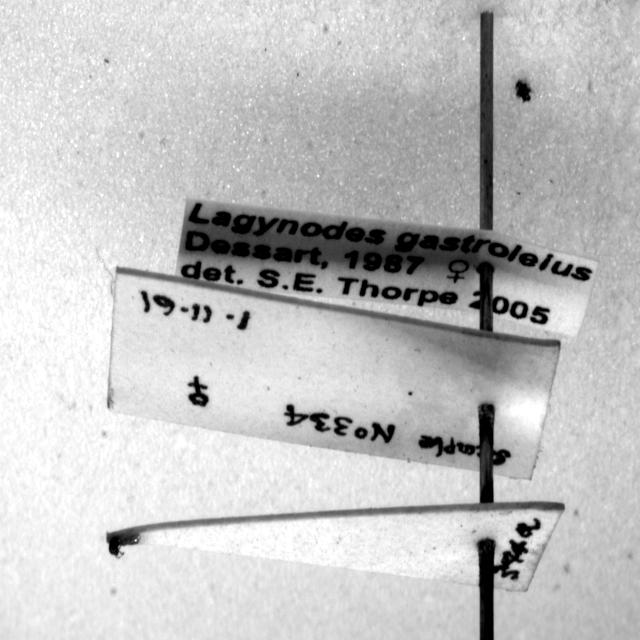hand_label: (108, 268, 560, 478)
typed_label: (176, 199, 598, 336)
